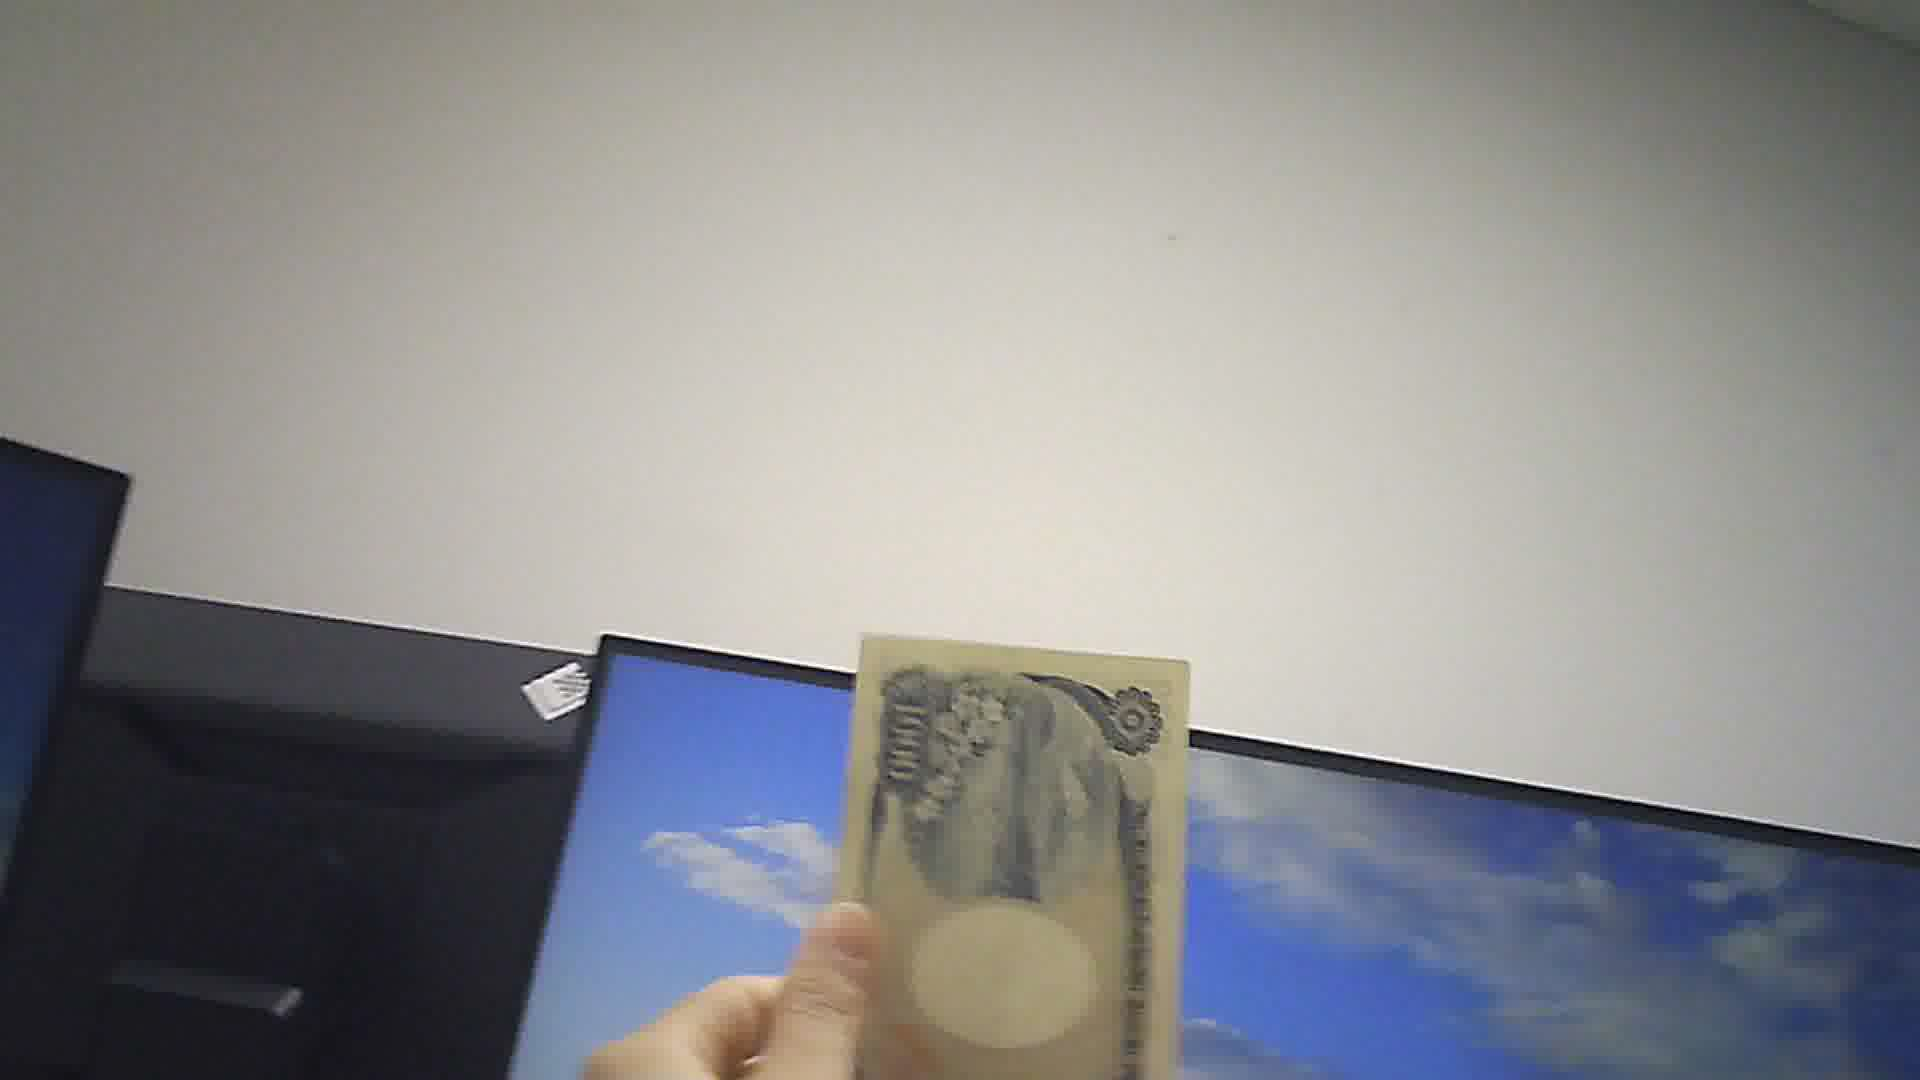1,000 Yen: (839, 615, 1188, 1079)
